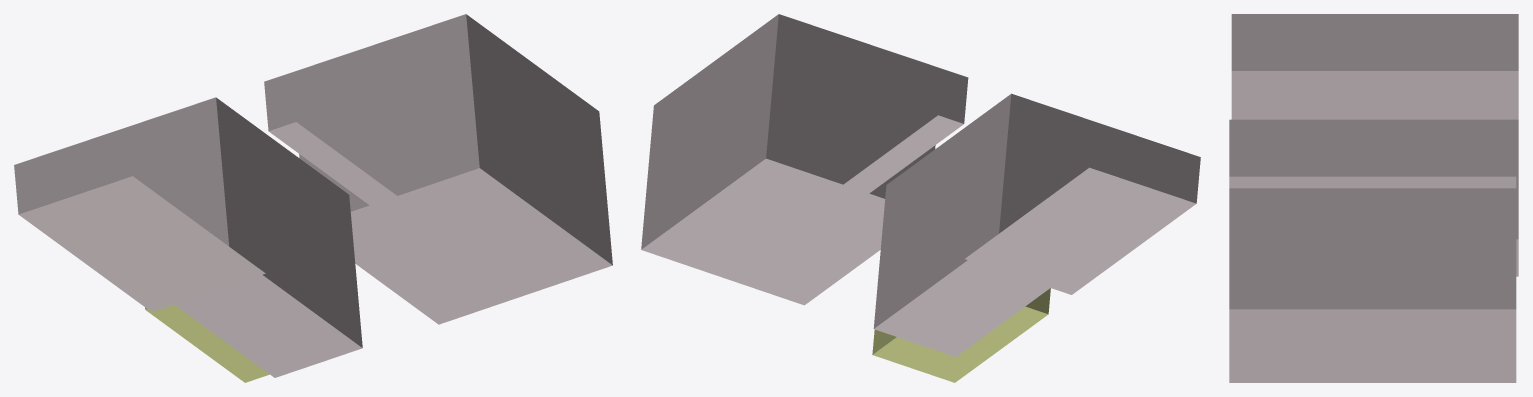
3 renders of one model, left to right at view 1: azimuth 30°, elevation 25°; view 2: azimuth 150°, elevation 25°; view 3: azimuth 270°, elevation 25°, orthographic. The views are drawn at different scales.
Parts seen in each view (by area): view 1: 0_2_3_3_3_1_0_0_2_1; view 2: 0_2_3_3_3_1_0_0_2_1; view 3: 0_2_3_3_3_1_0_0_2_1.
Part boxes in pixels (x1,y1,x2,y2): 0_2_3_3_3_1_0_0_2_1: (14, 14, 612, 382); 0_2_3_3_3_1_0_0_2_1: (641, 14, 1200, 382); 0_2_3_3_3_1_0_0_2_1: (1229, 14, 1518, 382).
Bounding box in the file's own units: 24.17 × 10.82 × 12.1.
